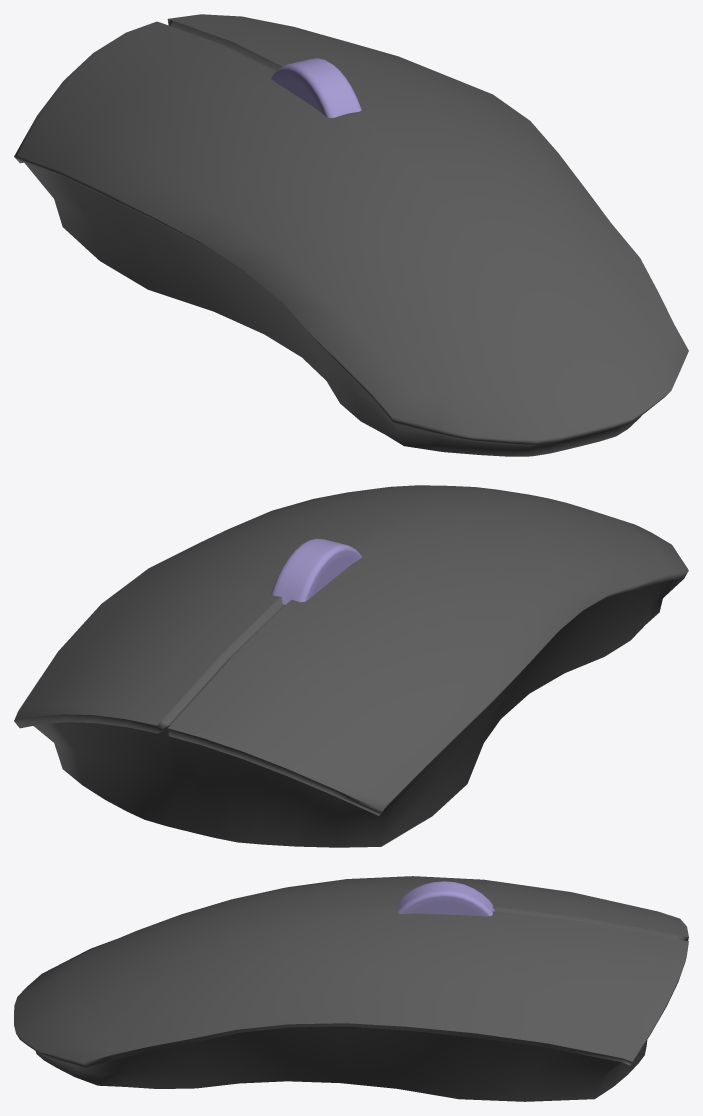
File: computer_mouse.fbx
3 views of the same model, one above another, from view 1: azimuth 30°, elevation 25°; view 2: azimuth 150°, elevation 25°; view 3: azimuth 270°, elevation 25° (orthographic). The views are drawn at different scales.
Visible parts, largest first — view 1: mesh_mouse; view 2: mesh_mouse; view 3: mesh_mouse.
Part boxes in pixels (x1=…): mesh_mouse: x1=14, y1=14, x2=688, y2=456; mesh_mouse: x1=14, y1=485, x2=688, y2=847; mesh_mouse: x1=14, y1=876, x2=688, y2=1101.
Size of the model in its own units: 2.49 by 1.17 by 4.7.
